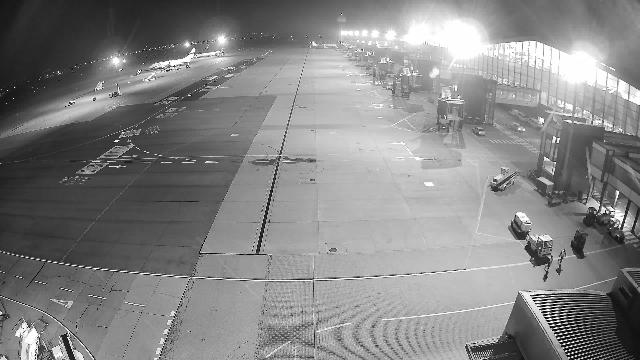Aircraft: (149, 47, 196, 68), (194, 48, 223, 57)
Airport_Tractor: (527, 234, 553, 258), (607, 217, 626, 242), (510, 212, 532, 232), (597, 206, 615, 224)
Baggage_Trolley: (536, 177, 554, 193), (548, 192, 563, 205), (561, 192, 577, 203), (578, 190, 589, 199)
Conveyor_Belt: (490, 166, 519, 191)
Ground_Crew: (545, 255, 553, 272), (558, 249, 566, 265)
